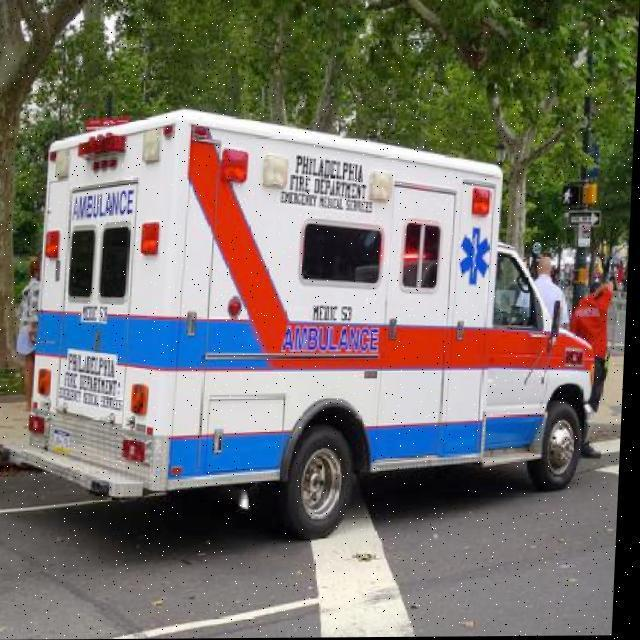Ambulance: (0, 102, 616, 544), (0, 346, 626, 638)
